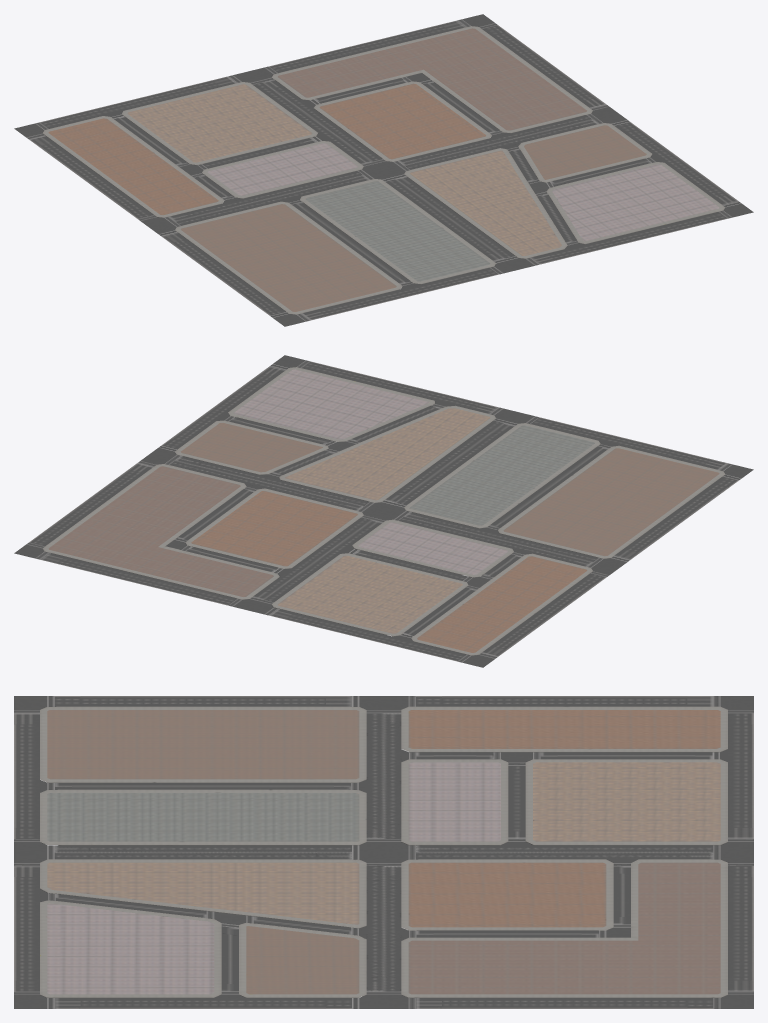
File: city_roads.obj
3 views of the same model, one above another, from view 1: azimuth 30°, elevation 25°; view 2: azimuth 150°, elevation 25°; view 3: azimuth 270°, elevation 25° (orthographic). The views are drawn at different scales.
Visible parts, largest first — view 1: CityBlock_A; view 2: CityBlock_A; view 3: CityBlock_A.
Part boxes in pixels (x1=…): CityBlock_A: x1=14, y1=14, x2=753, y2=326; CityBlock_A: x1=14, y1=355, x2=753, y2=667; CityBlock_A: x1=14, y1=696, x2=753, y2=1008.
Size of the model in its own units: 984 by 0.4921 by 984.
1 material, 1 textured.
